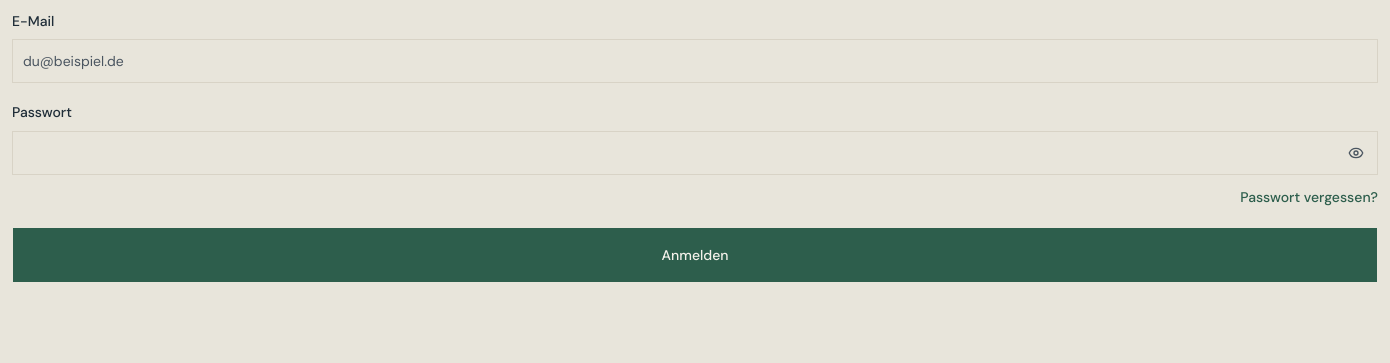
Test case: LoginForm › shows a translated error for wrong credentials and stays on the page
The image size is (1390, 363).
In the field labelled "E-Mail": (695, 61) [12,39,1378,83], type "mara@example.com"
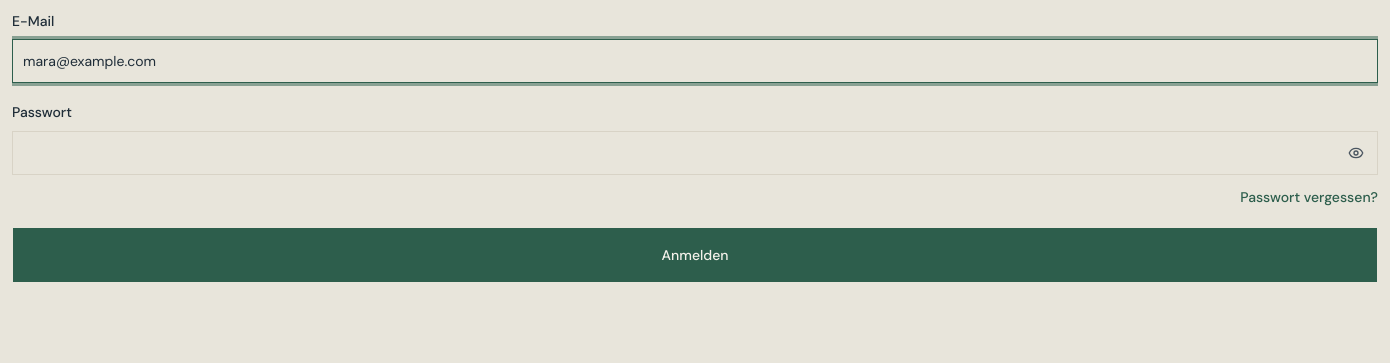
In the password field labelled "Passwort": (695, 152) [12,130,1378,174], type "wrong-password"
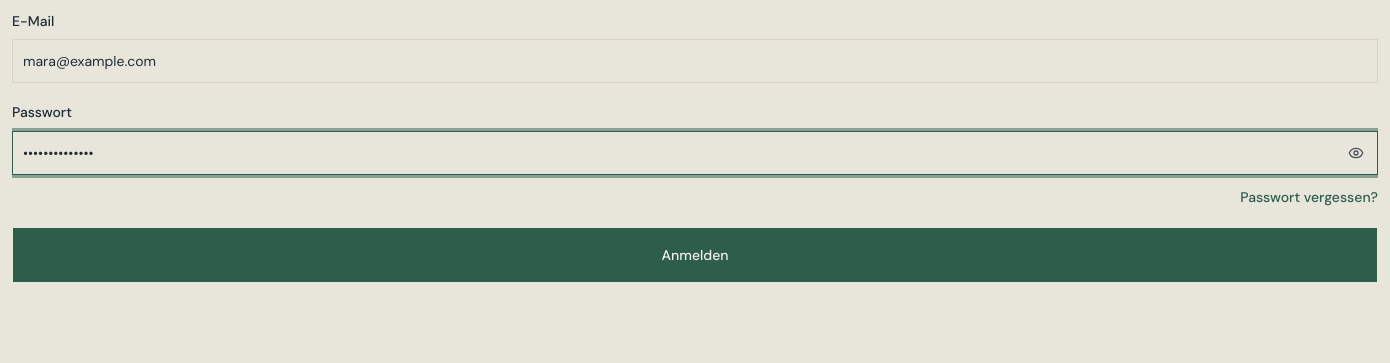
Click the button "Anmelden": (695, 254) [12,226,1378,282]
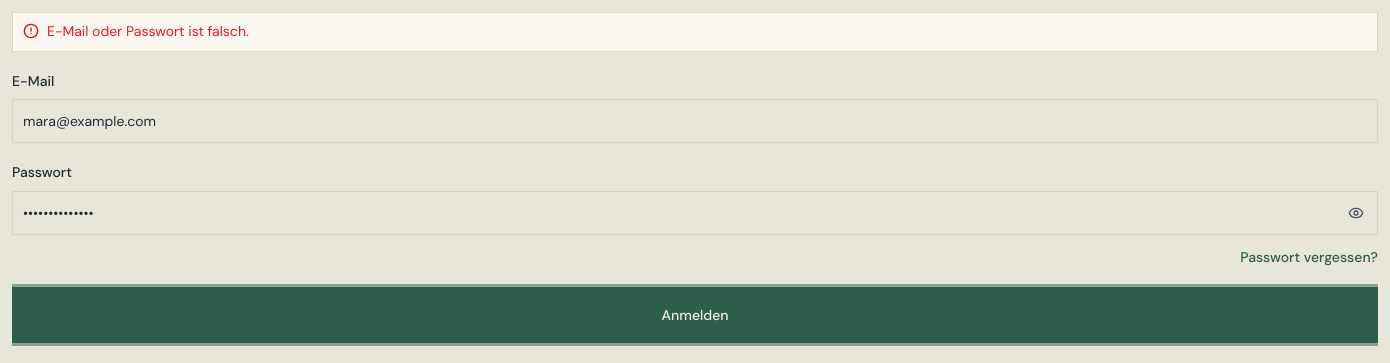
Result: the message reads "E-Mail oder Passwort ist falsch." at [47,22,249,40]
